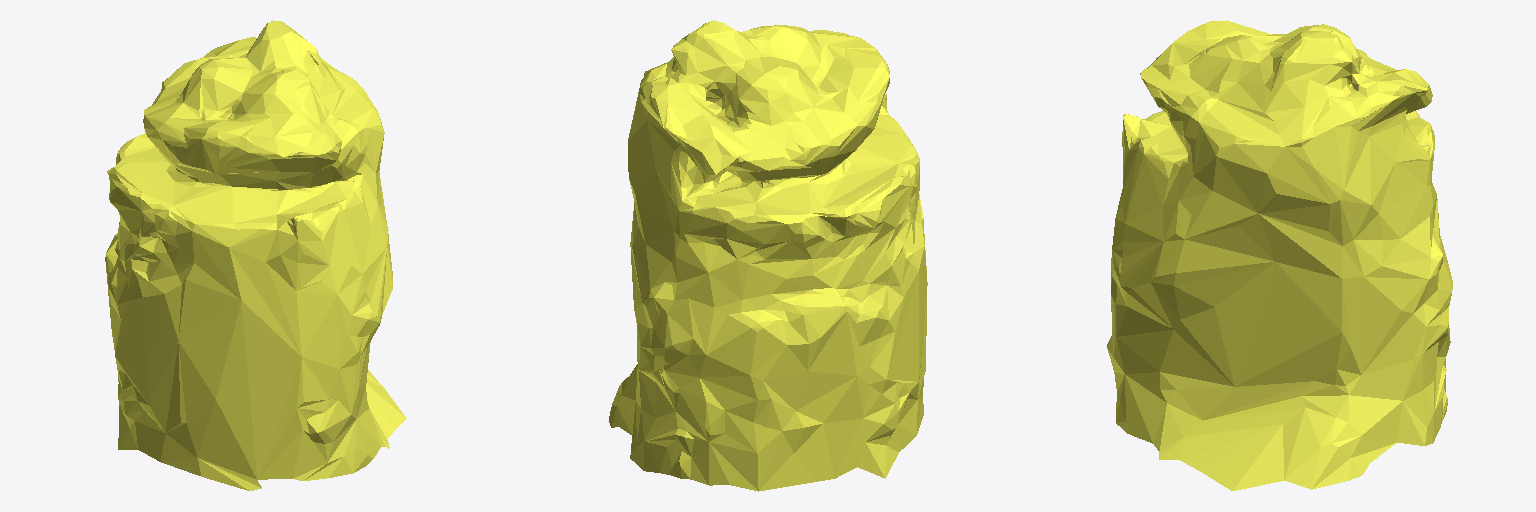
URDF robot description (env.urdf):
<?xml version="0.0" ?>
<robot name="env.urdf">
  <link name="baseLink">
    <contact>
      <lateral_friction value="1.0"/>
      <rolling_friction value="0.0"/>
      <contact_cfm value="0.0"/>
      <contact_erp value="1.0"/>
    </contact>
    <inertial>
      <origin rpy="0 0 0" xyz="0.0 0.02 0.0"/>
       <mass value="0"/>
       <inertia ixx="1" ixy="0" ixz="0" iyy="1" iyz="0" izz="1"/>
    </inertial>
    <visual>
      <origin rpy="0 0 0" xyz="0 0 0"/>
      <geometry>
        <mesh filename="coffee_table.obj" scale="1 1 1"/>
      </geometry>
       <material name="yellow">
        <color rgba="1 1 0.4 1"/>
      </material>
    </visual>
    <collision>
      <origin rpy="0 0 0" xyz="0 0 0"/>
      <geometry>
	 	<mesh filename="coffee_table.obj" scale="1 1 1"/>
      </geometry>
    </collision>
  </link>
</robot>

--- Render facts (derived) ---
The picture shows the robot from 3 angles, left to right: view 1: azimuth 30°, elevation 25°; view 2: azimuth 150°, elevation 25°; view 3: azimuth 270°, elevation 25°; orthographic projection.
Robot: env.urdf — 1 links, 0 joints (none); root link baseLink; default pose: every joint at zero.
Visible links, largest first — view 1: baseLink; view 2: baseLink; view 3: baseLink.
Link boxes in pixels (box(x1,y1,x2,y2)): baseLink: box(105, 20, 406, 490); baseLink: box(609, 20, 927, 491); baseLink: box(1107, 20, 1452, 490).
Bounding box of the posed robot: 0.3985 × 0.4273 × 0.5597 m (x, y, z).
1 mesh visuals loaded from 1 distinct referenced files (1 OBJ).